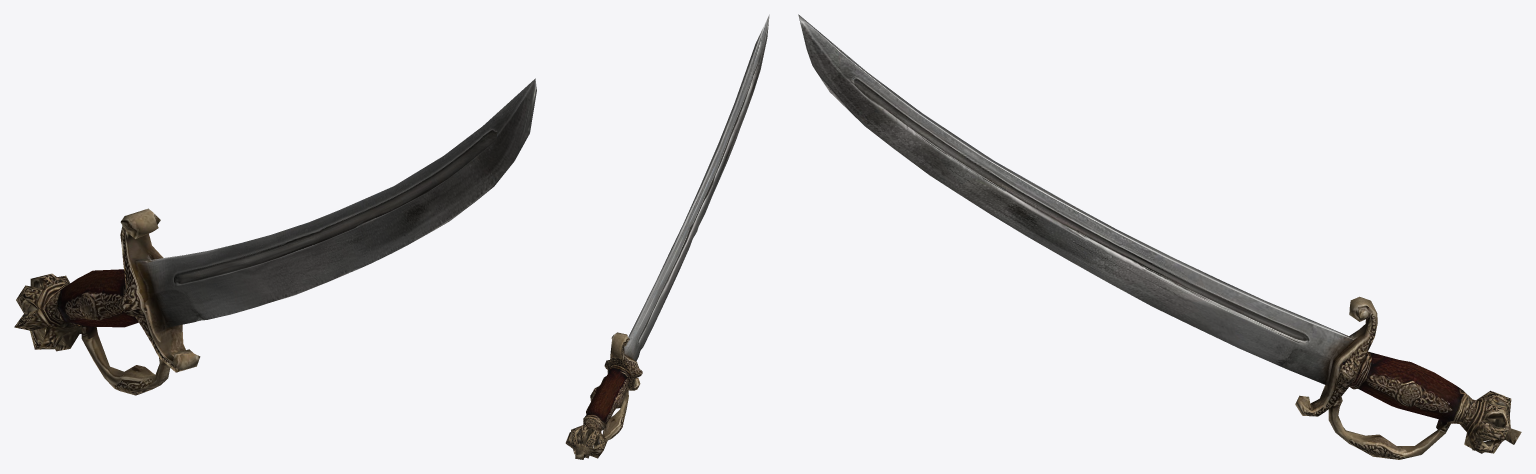
File: cavalry_mix_melee.glb
3 views of the same model, side by side, from view 1: azimuth 30°, elevation 25°; view 2: azimuth 150°, elevation 25°; view 3: azimuth 270°, elevation 25° (orthographic). The views are drawn at different scales.
Visible parts, largest first — view 1: tripo_node_c59ca7f2-2d19-4e26-baf4-edd00694531e; view 2: tripo_node_c59ca7f2-2d19-4e26-baf4-edd00694531e; view 3: tripo_node_c59ca7f2-2d19-4e26-baf4-edd00694531e.
Boxes of the visible parts, x1,y1,x2,y2 form: tripo_node_c59ca7f2-2d19-4e26-baf4-edd00694531e: (14, 78, 536, 395); tripo_node_c59ca7f2-2d19-4e26-baf4-edd00694531e: (565, 14, 769, 459); tripo_node_c59ca7f2-2d19-4e26-baf4-edd00694531e: (798, 14, 1521, 459).
Bounding box in the file's own units: 0.0539 × 0.2913 × 0.4132.
Materials: 1 (1 with a texture image).
